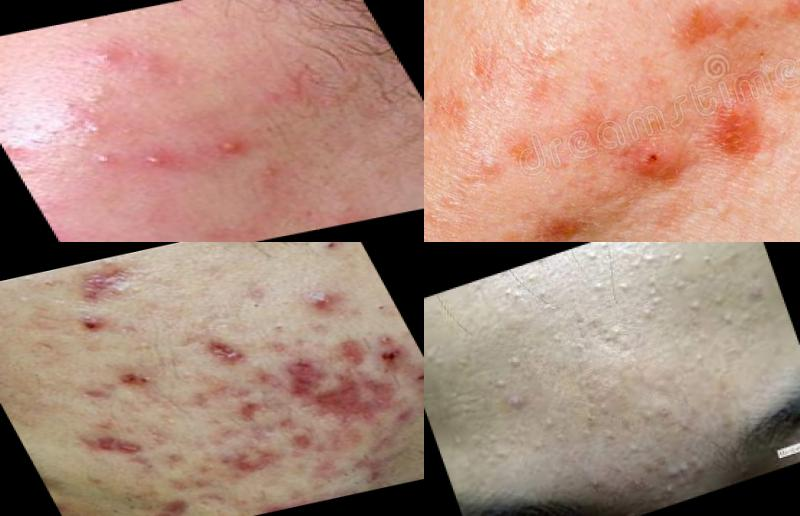acne_scars: (314, 372, 407, 439), (66, 252, 162, 311), (211, 435, 292, 484), (214, 384, 292, 434), (267, 352, 332, 402), (327, 326, 387, 379), (199, 326, 257, 377), (75, 424, 140, 468), (70, 372, 127, 410), (150, 497, 206, 516)
blackhead: (228, 285, 291, 324), (11, 271, 81, 306), (642, 391, 684, 437), (262, 318, 317, 352), (84, 487, 140, 516), (425, 141, 455, 190), (571, 400, 611, 435), (360, 290, 397, 327)
cystic: (621, 123, 704, 202)
purulent: (127, 140, 193, 185), (207, 126, 267, 172), (78, 34, 132, 77), (71, 144, 129, 181)
whitehead: (646, 436, 728, 503), (35, 76, 137, 126), (461, 413, 528, 484), (504, 63, 573, 117), (702, 284, 749, 339), (533, 408, 574, 459), (638, 273, 668, 312), (580, 269, 614, 303), (500, 342, 531, 378), (625, 246, 663, 275), (486, 369, 512, 404), (680, 291, 706, 315), (612, 273, 634, 296), (666, 244, 689, 266)
